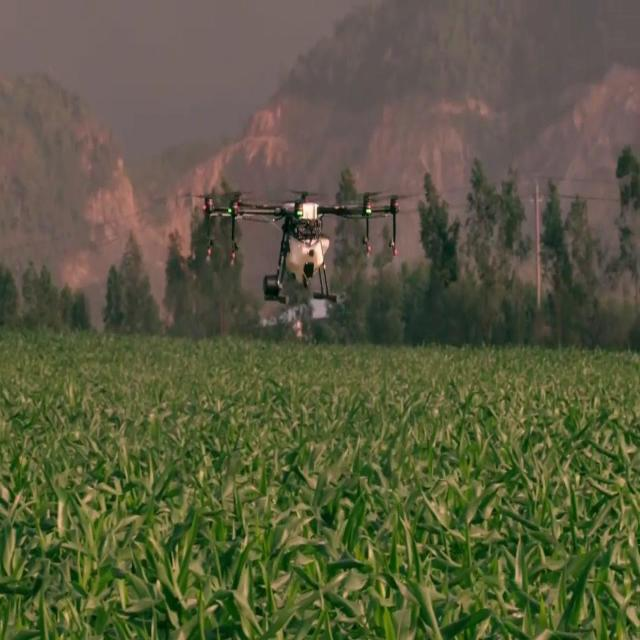drone: (195, 184, 403, 305)
